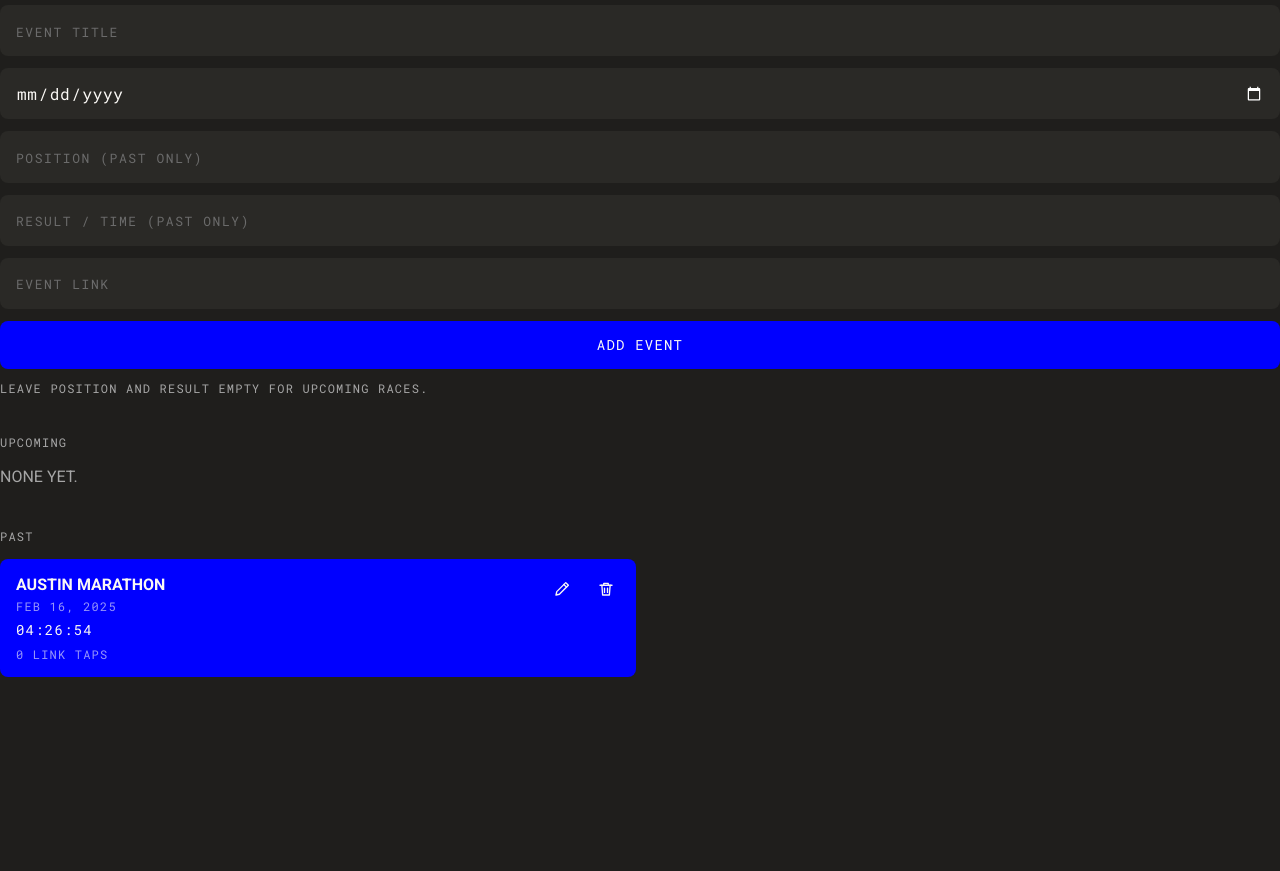
EventManager › edits a race and saves updated fields
Click the button named "edit" at (562, 589), box [540,567,584,611]
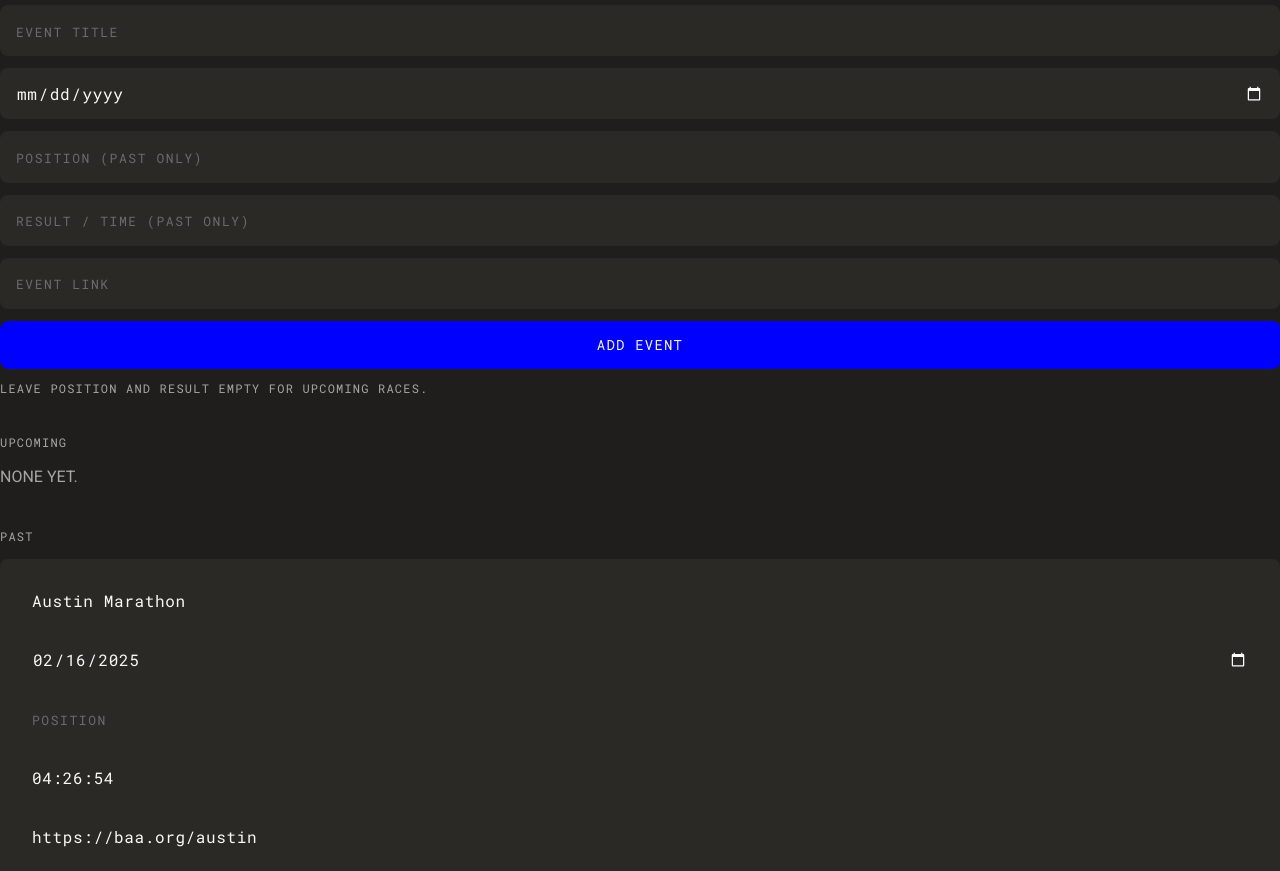
Expected: the 2nd field with placeholder "Result / time" holds "04:26:54"
Replace the text in the 2nd field with placeholder "Result / time" with "04:20:00" at (640, 778), box [16,752,1264,804]
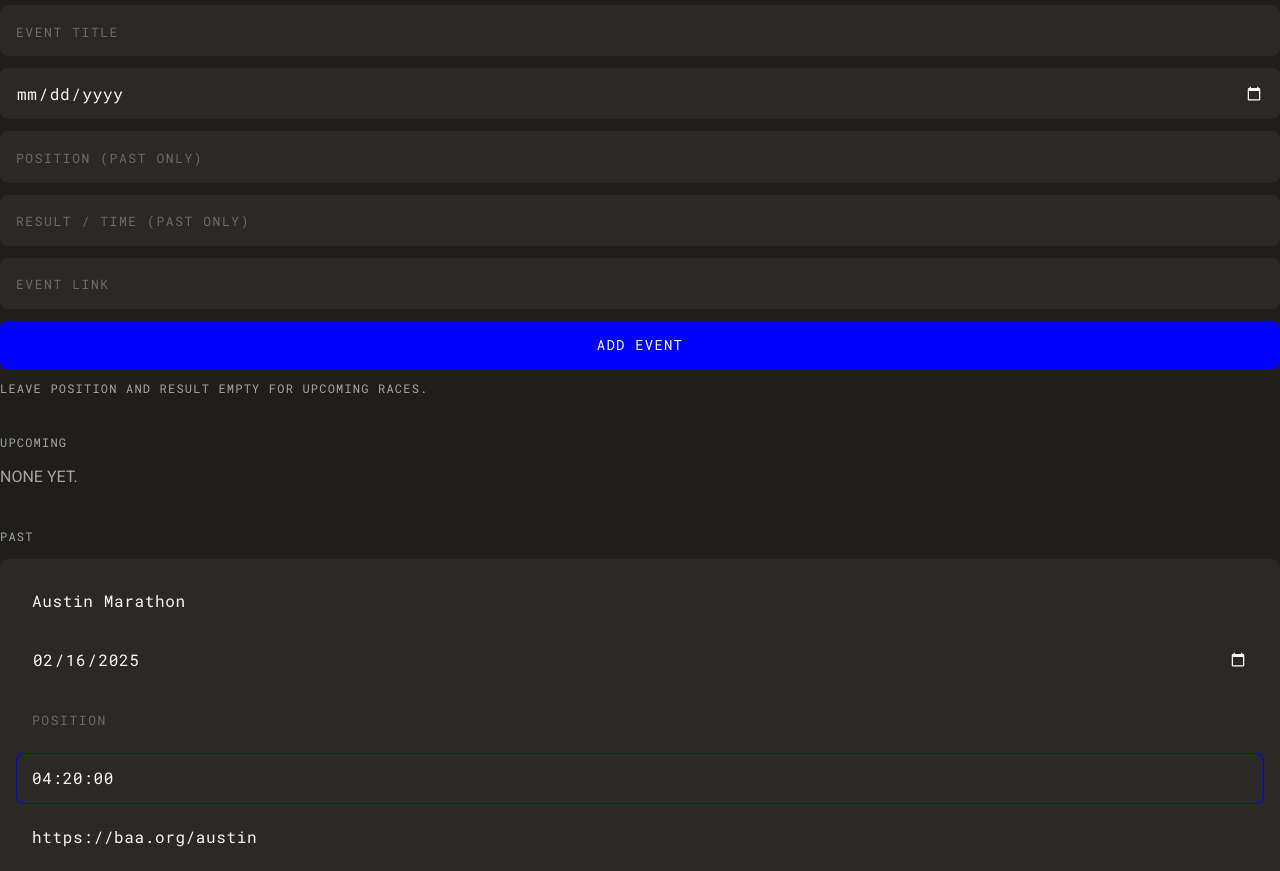
Type "12th OA" into the field with placeholder "Position" at (640, 719), box [16,693,1264,744]
(page scrolled)
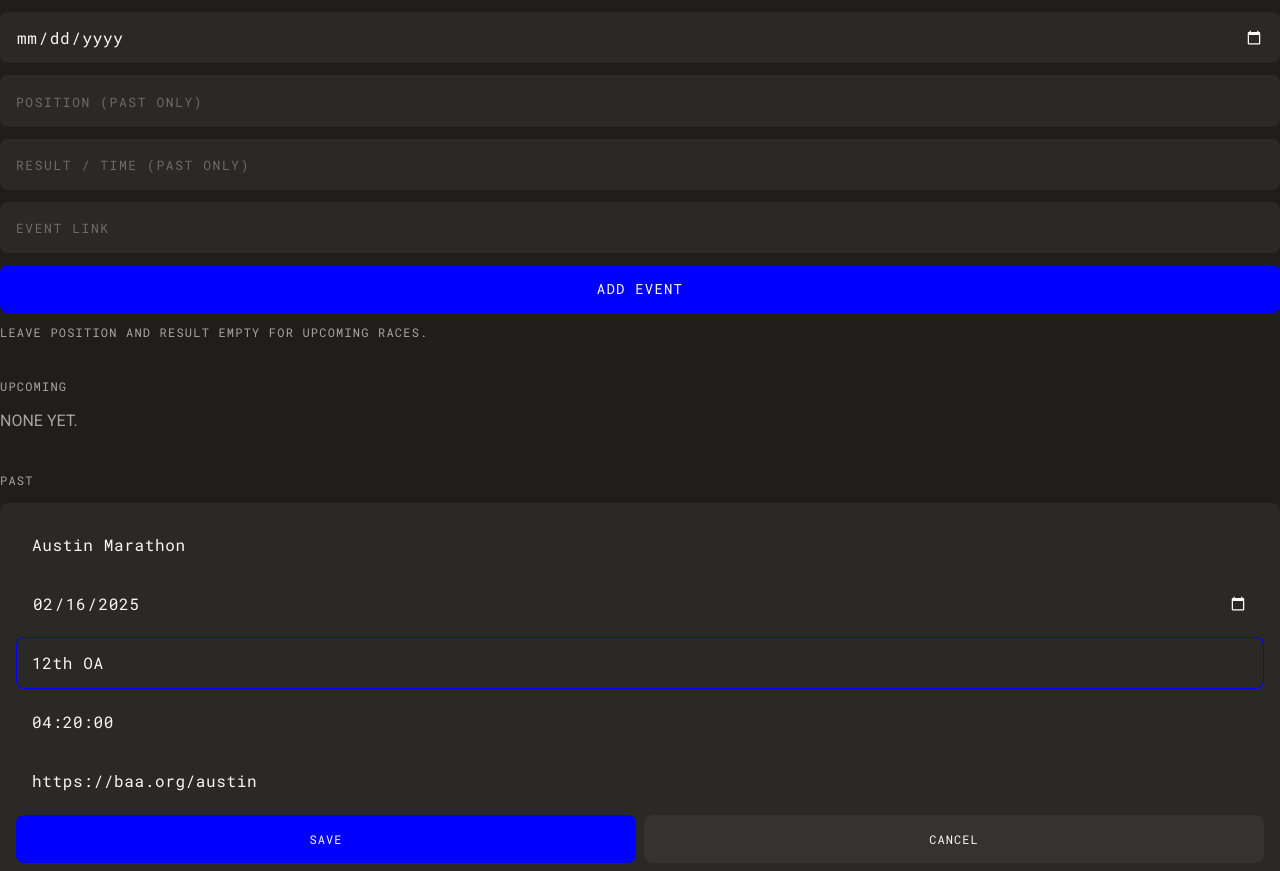
Click the button "Save" at (326, 839), box [16,815,636,863]
(page scrolled)
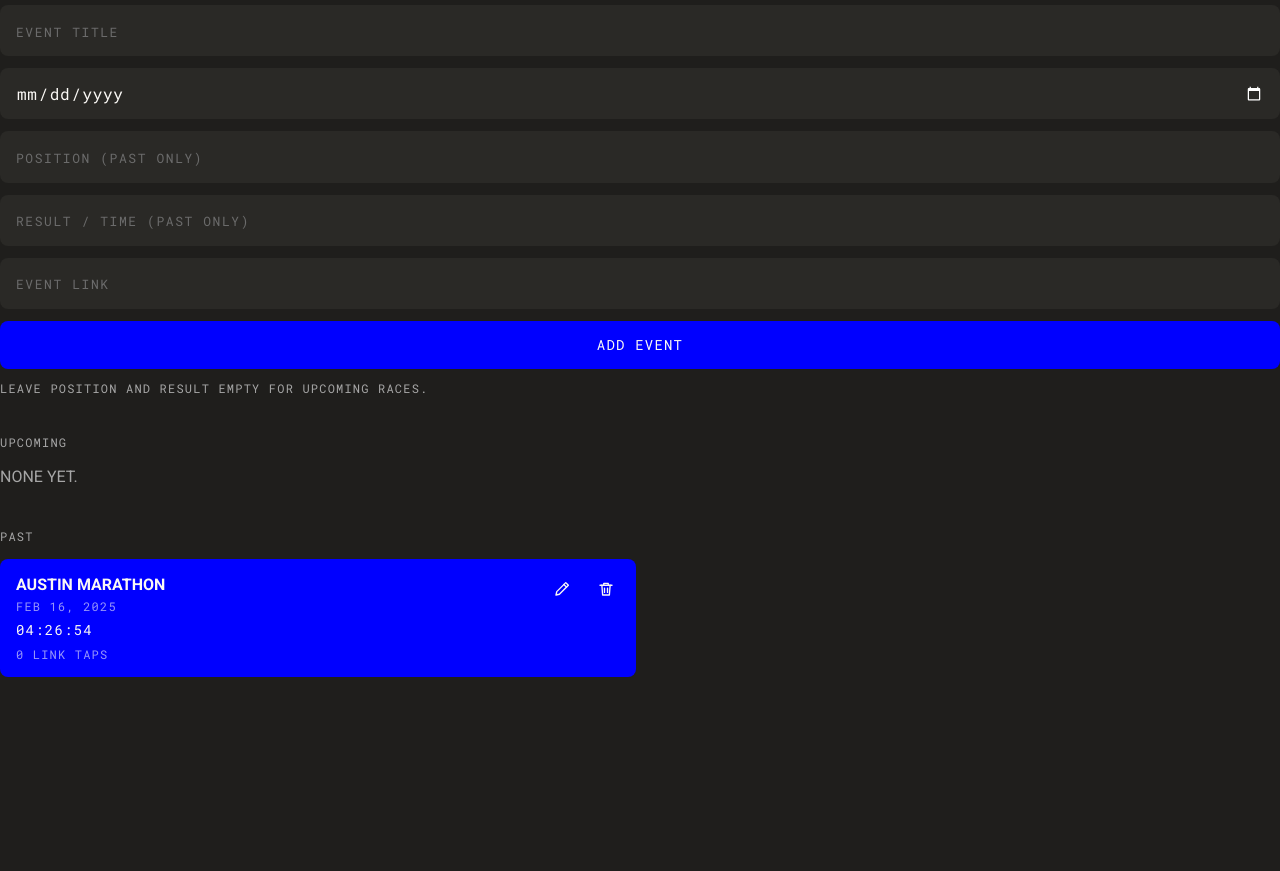
Expected: the button "Save" is gone
